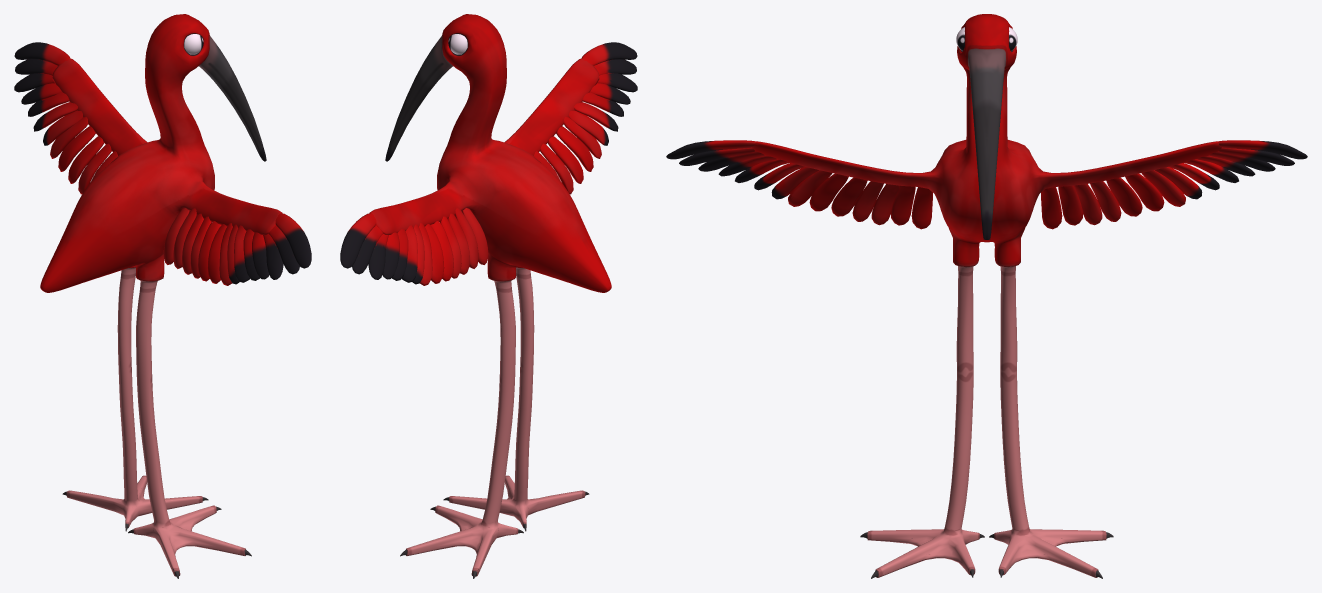
The model's file is Corocora.fbx.
3 renders of one model, left to right at view 1: azimuth 30°, elevation 25°; view 2: azimuth 150°, elevation 25°; view 3: azimuth 270°, elevation 25°, orthographic. The views are drawn at different scales.
Visible parts, largest first — view 1: Corocora; view 2: Corocora; view 3: Corocora.
Part boxes in pixels (<box>): Corocora: <box>14,14,311,578</box>; Corocora: <box>340,14,637,578</box>; Corocora: <box>666,14,1307,578</box>.
Size of the model in its own units: 83.59 by 180 by 189.
